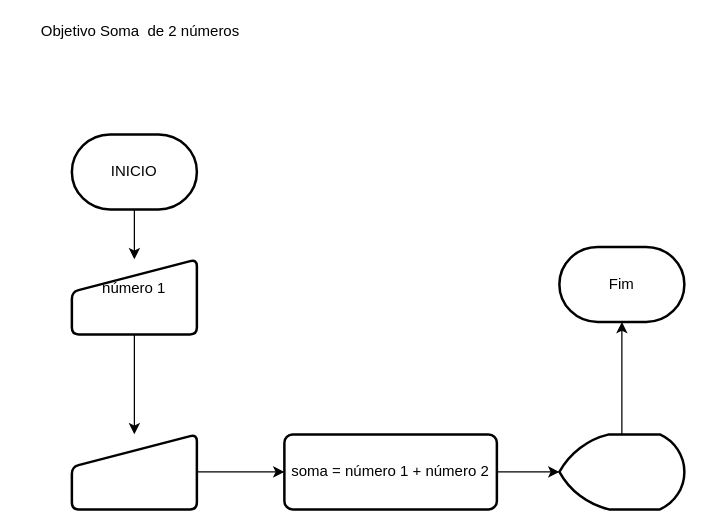
The diagram is 706 pixels wide and 531 high, and some of its shapes have lost their labels. The box of each missing label's shape, as (x1, y1, x2, y2) in pixels:
número 2: (70, 432, 198, 510)
soma: (558, 432, 685, 510)
